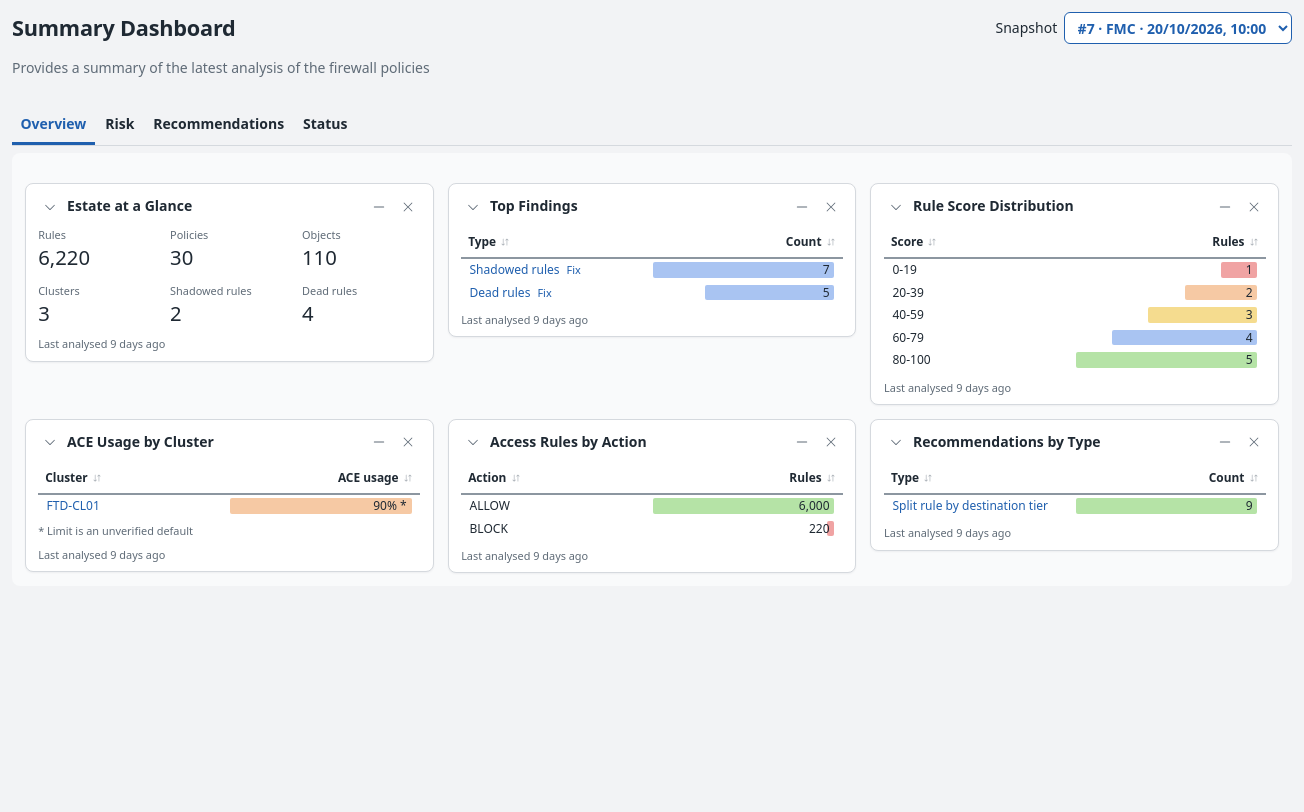
it: Summary dashboard › shows widgets per tab, and widgets can be closed and added back
Check: the heading "Summary Dashboard" is shown, box [12, 12, 236, 44]
Check: the text "90% *" is shown, box [373, 497, 407, 514]
Click the button named "Close Top Findings" at (831,207), box [819, 195, 843, 219]
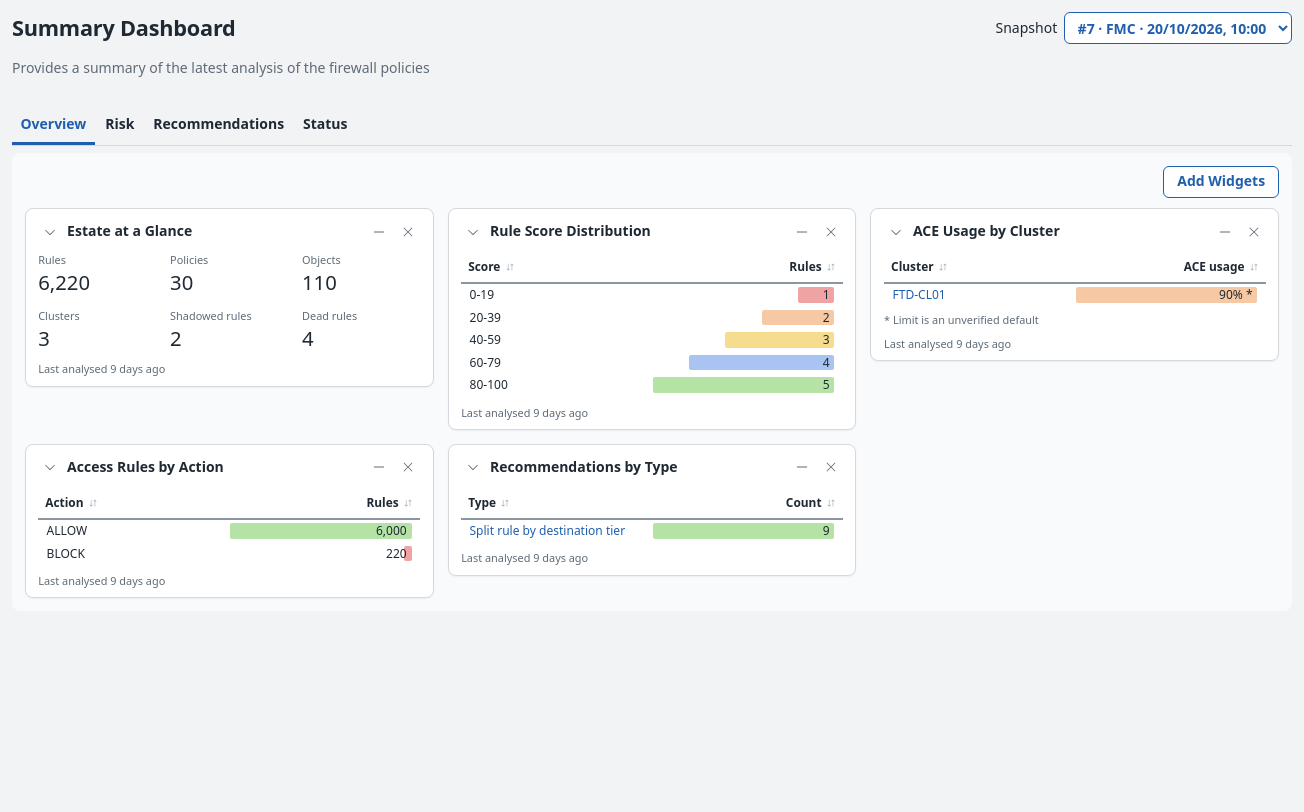
Check: the heading "Top Findings" is gone
Click the button "Add Widgets" at (1221,182), box [1163, 166, 1279, 198]
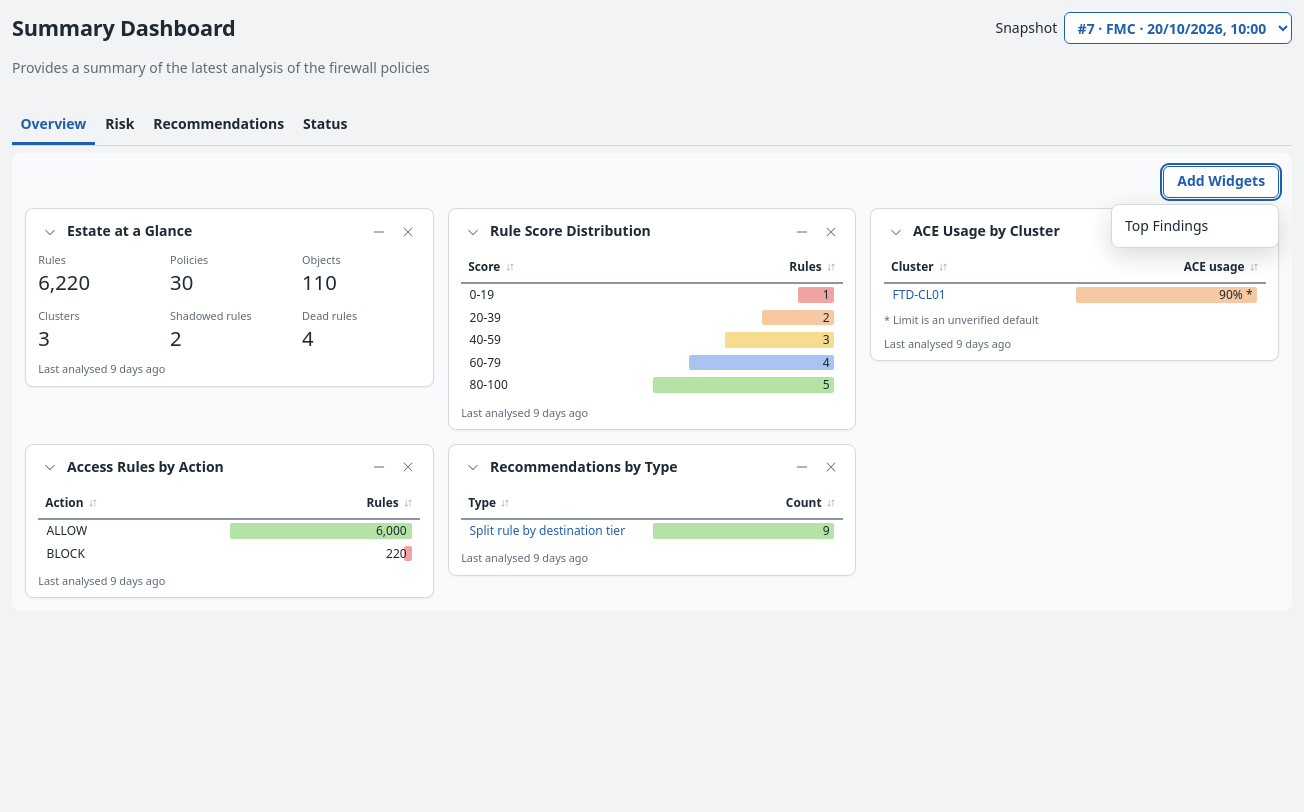
Click the menu item "Top Findings" at (1195,226), box [1112, 209, 1278, 243]
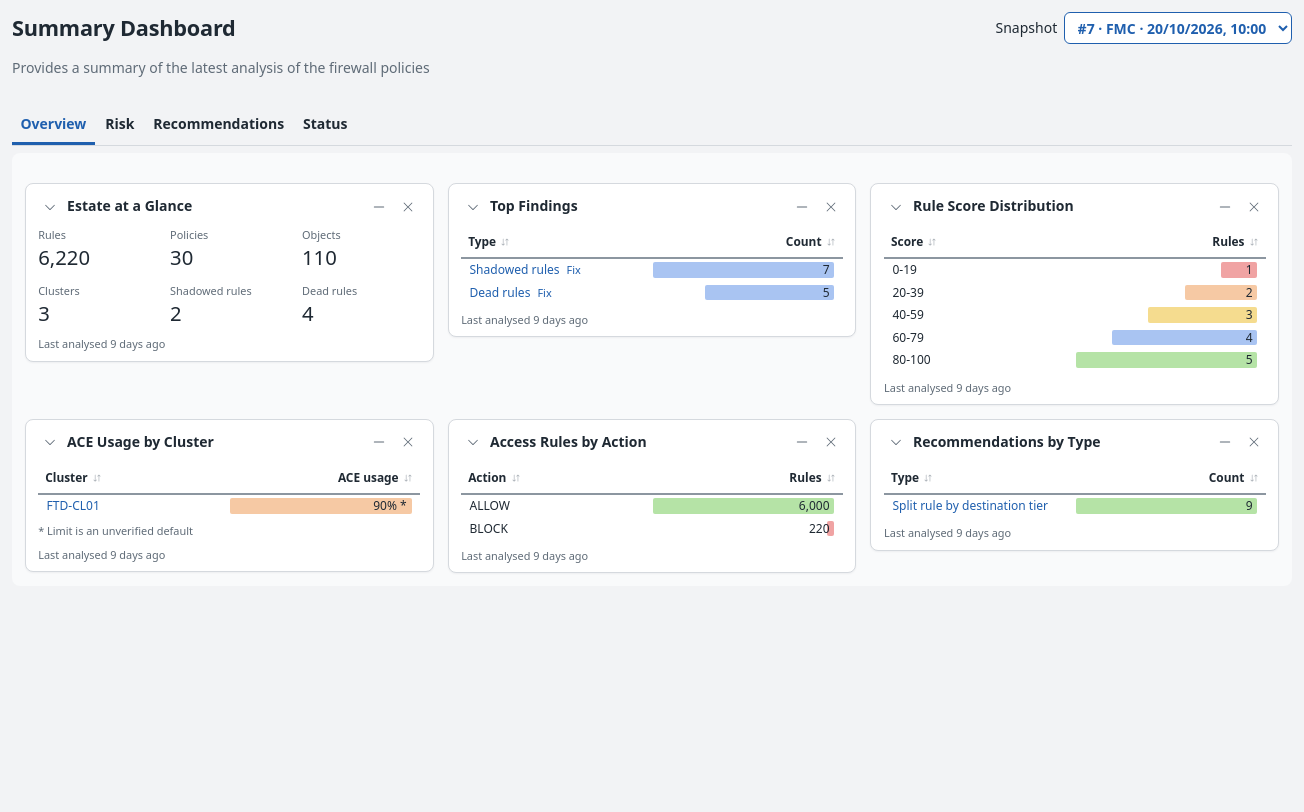
Check: the element "Top Findings" is shown, box [448, 183, 856, 337]
Click the button named "Minimise Estate at a Glance" at (379,207), box [367, 195, 391, 219]
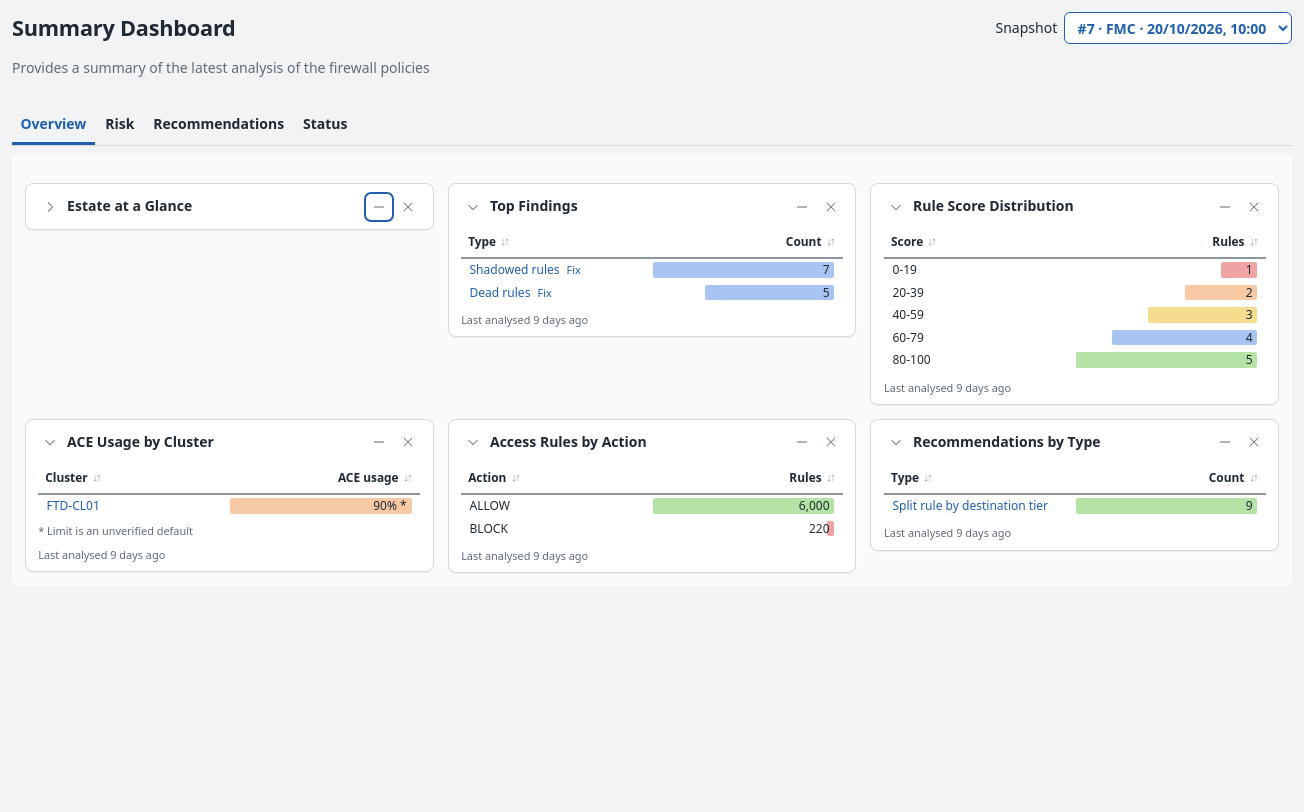
Check: the link "6,220" is gone
Click the tab "Risk" at (120,126), box [97, 106, 143, 145]
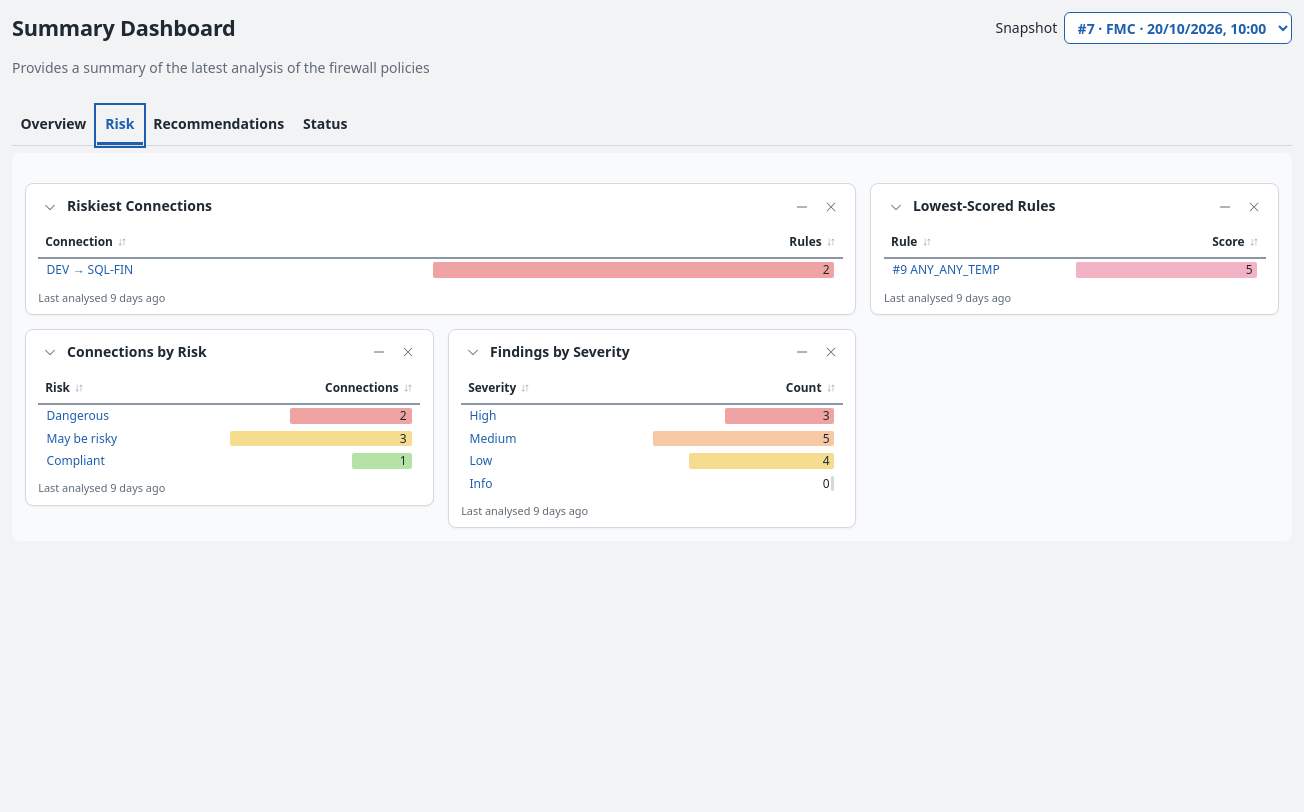
Check: the text "5" in the row of "ANY_ANY_TEMP" is shown, box [1246, 261, 1252, 278]
Check: the text "DEV" is shown, box [47, 261, 69, 278]
